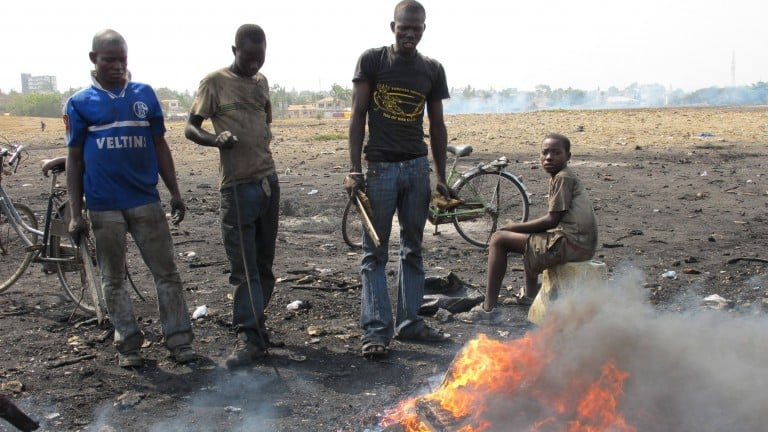fire: (446, 318, 550, 415), (559, 359, 634, 432), (384, 400, 430, 432), (423, 384, 447, 409), (455, 419, 489, 431)
smoke: (637, 307, 766, 430), (545, 258, 649, 363), (146, 371, 282, 432), (490, 396, 553, 432), (82, 409, 124, 431)
